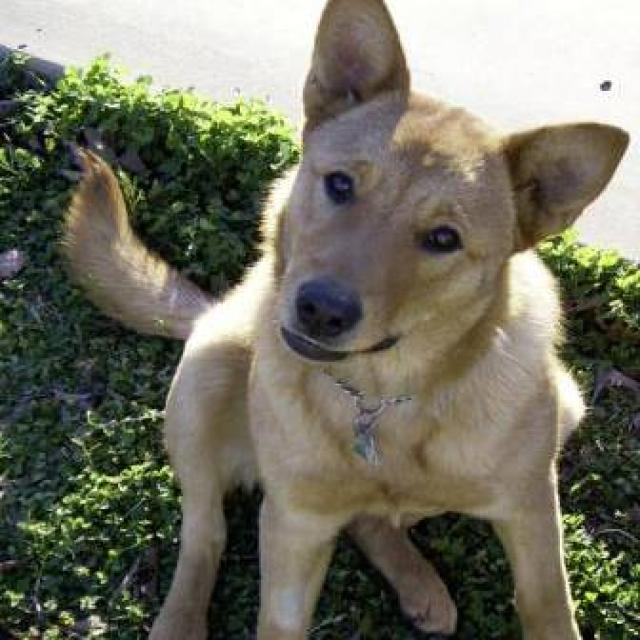dog: (55, 0, 630, 638)
